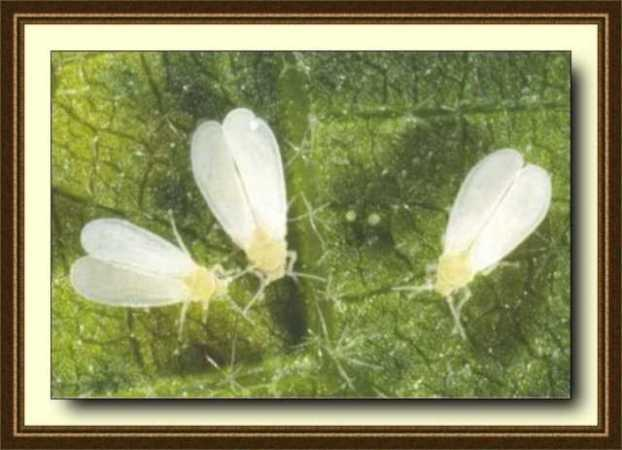whitefly: (392, 147, 553, 340), (190, 108, 327, 312), (66, 217, 252, 337)
